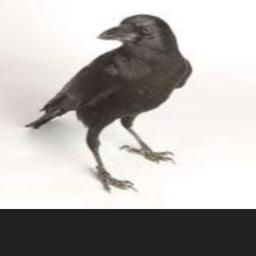Crow: (26, 13, 194, 194)
